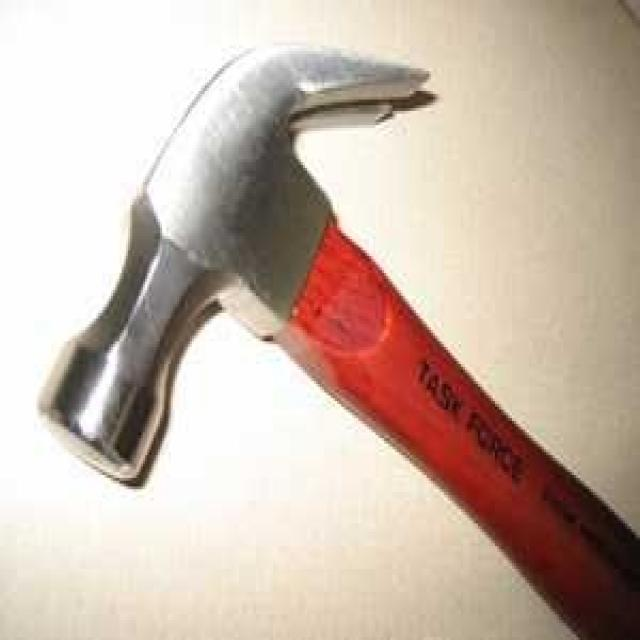hammer: (36, 40, 640, 640)
